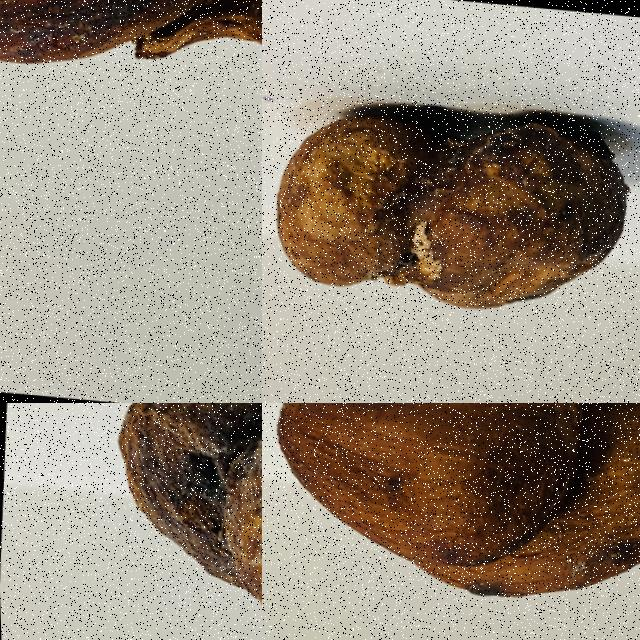Agglomerated_cocoabeans: (262, 63, 639, 328), (262, 403, 639, 639), (77, 403, 261, 639), (0, 0, 261, 123)
